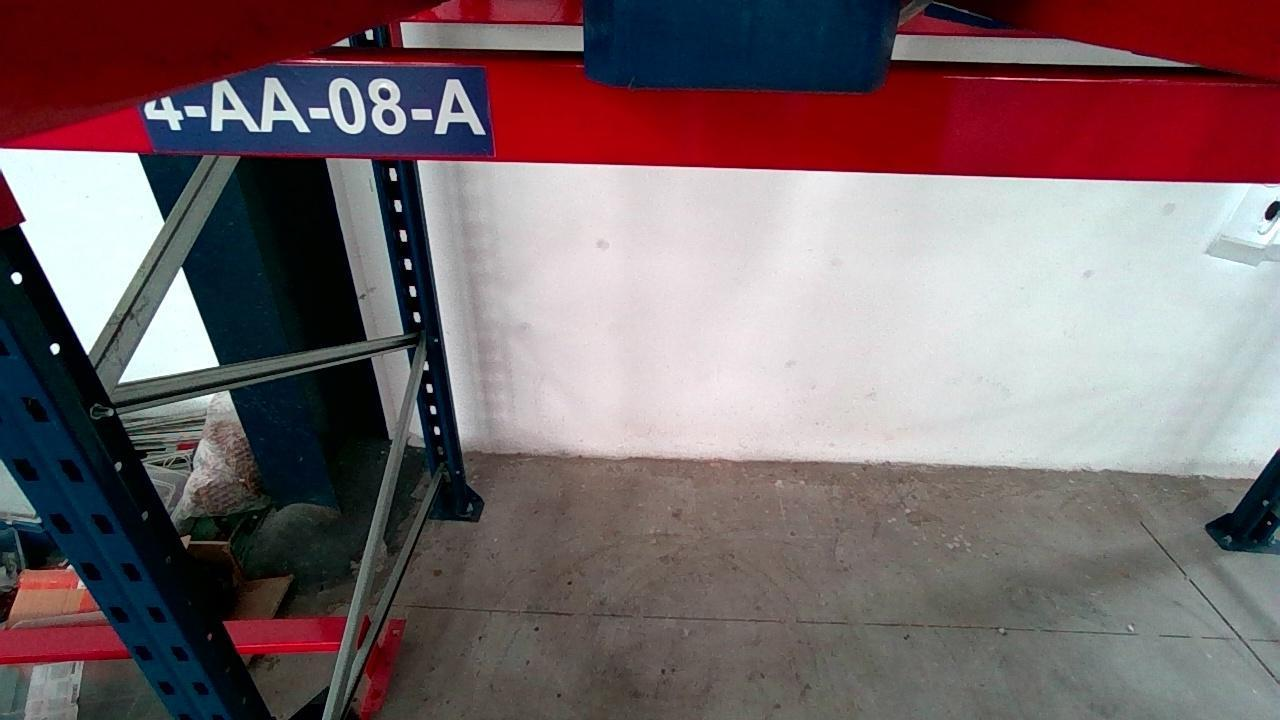h_rack: (3, 62, 1280, 182)
